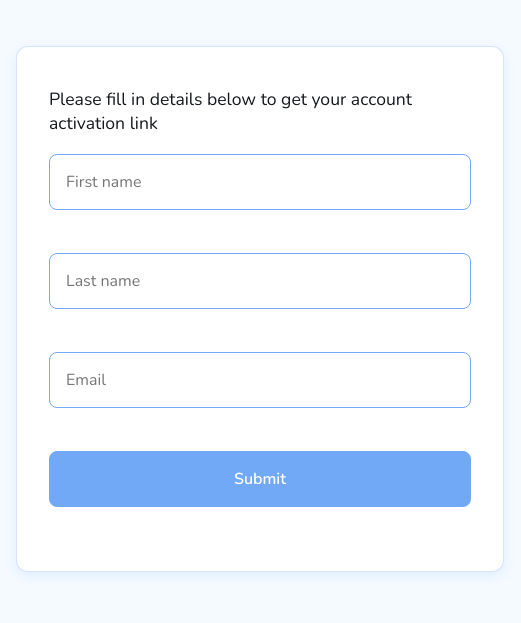
Test: RequestSignupForm › shows error message for incorrect email format
Type "incorrect email" into the field with placeholder "Email" at (260, 380), box 49,352 -> 471,408
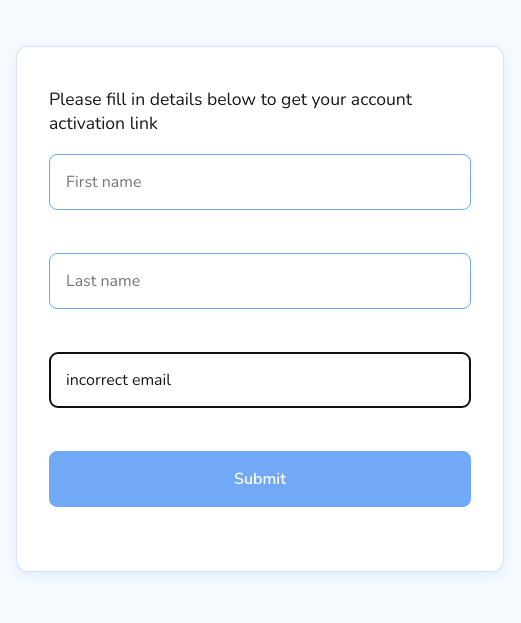
Click the button with test id "submitBtn" at (260, 479), box 49,451 -> 471,507
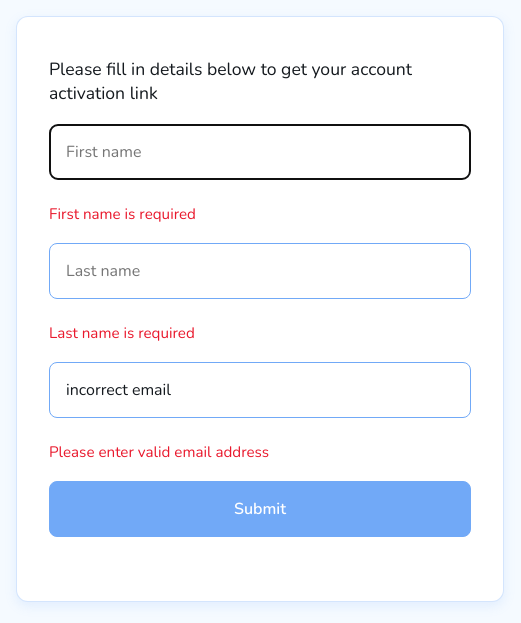
Expected: the text "Please enter valid email address" is shown, 49,442 -> 269,462
